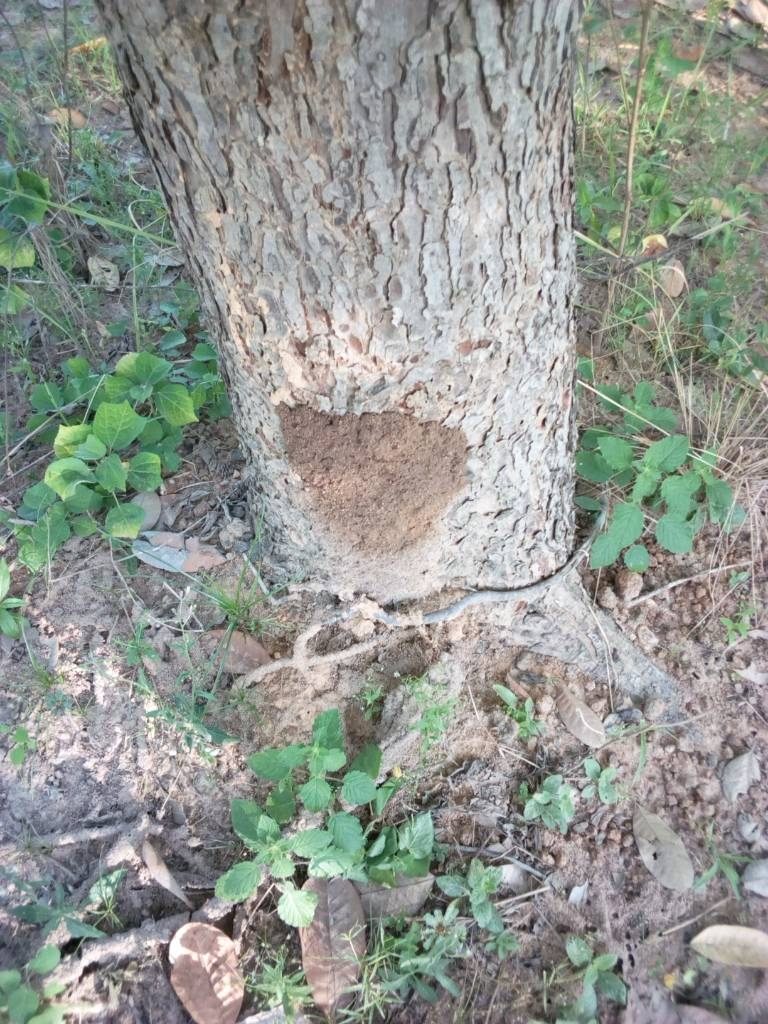Termites: (280, 405, 468, 553)
